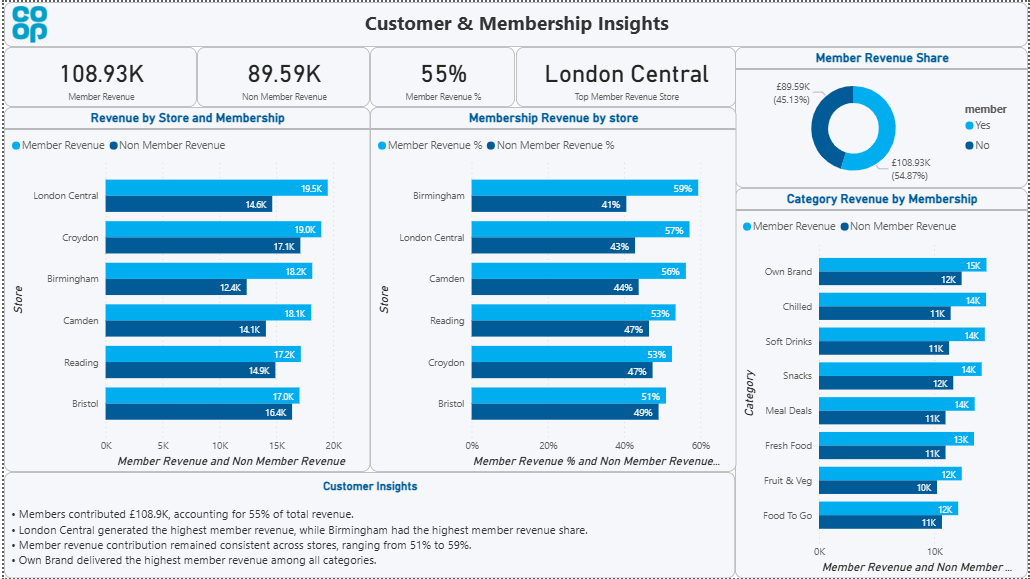

What the dashboard file says about the page in this screenshot:
{"tool":"powerbi","page":{"name":"Insights","canvas":[1280,720],"ordinal":1},"visuals":[{"type":"textbox","box":[0,0,1280,56.4],"z":0,"group":"g1"},{"type":"card","fields":{"Values":["coop_retail_cleaned_dataset.Member Revenue"]},"box":[0,56.2,241.2,75],"z":0},{"type":"card","fields":{"Values":["coop_retail_cleaned_dataset.Non Member Revenue"]},"box":[241.2,56.2,216.2,75],"z":1000},{"type":"card","fields":{"Values":["coop_retail_cleaned_dataset.Member Revenue %"]},"box":[457.5,56.2,181.2,75],"z":2000},{"type":"clusteredBarChart","title":"Revenue by Store and Membership","fields":{"Y":["coop_retail_cleaned_dataset.Member Revenue","coop_retail_cleaned_dataset.Non Member Revenue"],"Category":["coop_retail_cleaned_dataset.store"]},"box":[0,131.2,457.5,456.2],"z":3000},{"type":"donutChart","title":"Member Revenue Share","fields":{"Category":["coop_retail_cleaned_dataset.member"],"Y":["coop_retail_cleaned_dataset.Total Revenue"]},"box":[913.8,56.2,366.2,176.2],"z":4000},{"type":"clusteredBarChart","title":"Category Revenue by Membership","fields":{"Category":["coop_retail_cleaned_dataset.category"],"Y":["coop_retail_cleaned_dataset.Member Revenue","coop_retail_cleaned_dataset.Non Member Revenue"]},"box":[913.8,232.5,366.2,487.5],"z":5000},{"type":"textbox","box":[0,587.5,913.8,132.5],"z":6000},{"type":"clusteredBarChart","title":"Membership Revenue by store","fields":{"Category":["coop_retail_cleaned_dataset.store"],"Y":["coop_retail_cleaned_dataset.Member Revenue %","coop_retail_cleaned_dataset.Non Member Revenue %"]},"box":[457.5,131.2,457.5,456.2],"z":7000},{"type":"card","fields":{"Values":["coop_retail_cleaned_dataset.Top Member Revenue Store"]},"box":[640,56.2,275,75],"z":8000},{"type":"group","id":"g1","title":"Group 1","box":[0,0,1280,56.4],"z":9000},{"type":"image","box":[0,0,63.8,56.2],"z":9501,"group":"g1"}]}

Visuals, with their boxes in screenshot pixels (x1, y1, x2, y2), scaled from the page's 1280x720 canvas onto the 1030x579 screenshot:
textbox: box=[0, 0, 1029, 45]
card - coop_retail_cleaned_dataset.Member Revenue: box=[0, 45, 194, 106]
card - coop_retail_cleaned_dataset.Non Member Revenue: box=[194, 45, 368, 106]
card - coop_retail_cleaned_dataset.Member Revenue %: box=[368, 45, 514, 106]
"Revenue by Store and Membership" clusteredBarChart: box=[0, 106, 368, 472]
"Member Revenue Share" donutChart: box=[735, 45, 1029, 187]
"Category Revenue by Membership" clusteredBarChart: box=[735, 187, 1029, 578]
textbox: box=[0, 472, 735, 578]
"Membership Revenue by store" clusteredBarChart: box=[368, 106, 736, 472]
card - coop_retail_cleaned_dataset.Top Member Revenue Store: box=[515, 45, 736, 106]
"Group 1" group: box=[0, 0, 1029, 45]
image: box=[0, 0, 51, 45]
